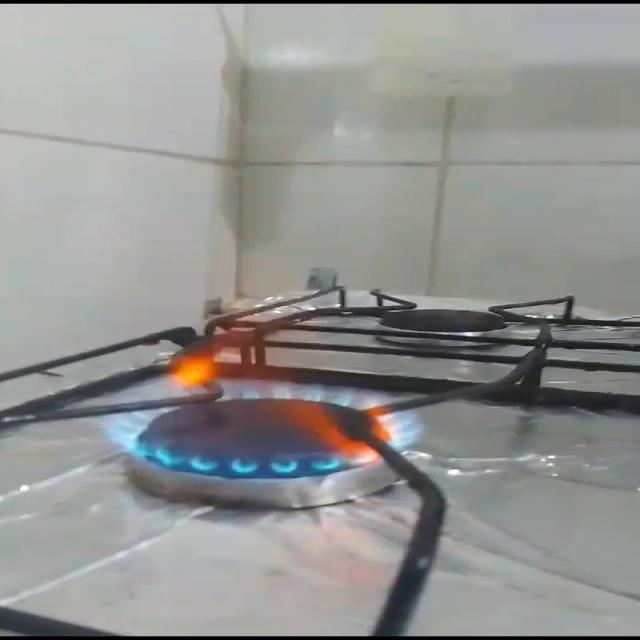fogo-ypXI: (84, 316, 431, 484)
